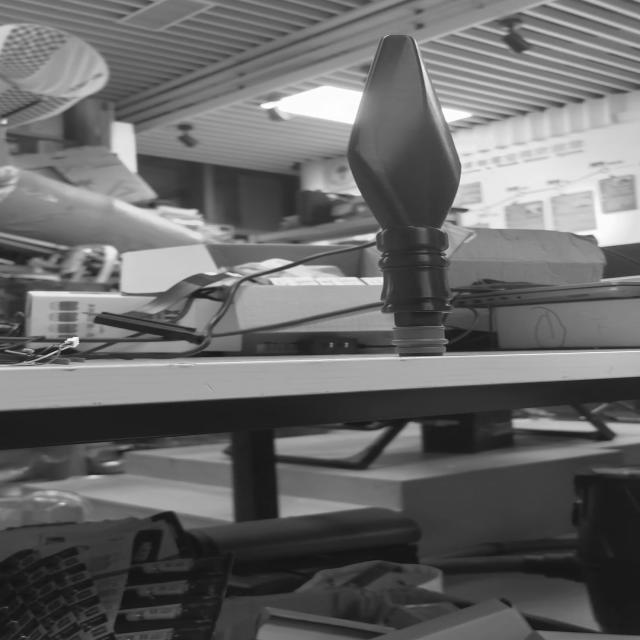base: (389, 322, 451, 360)
